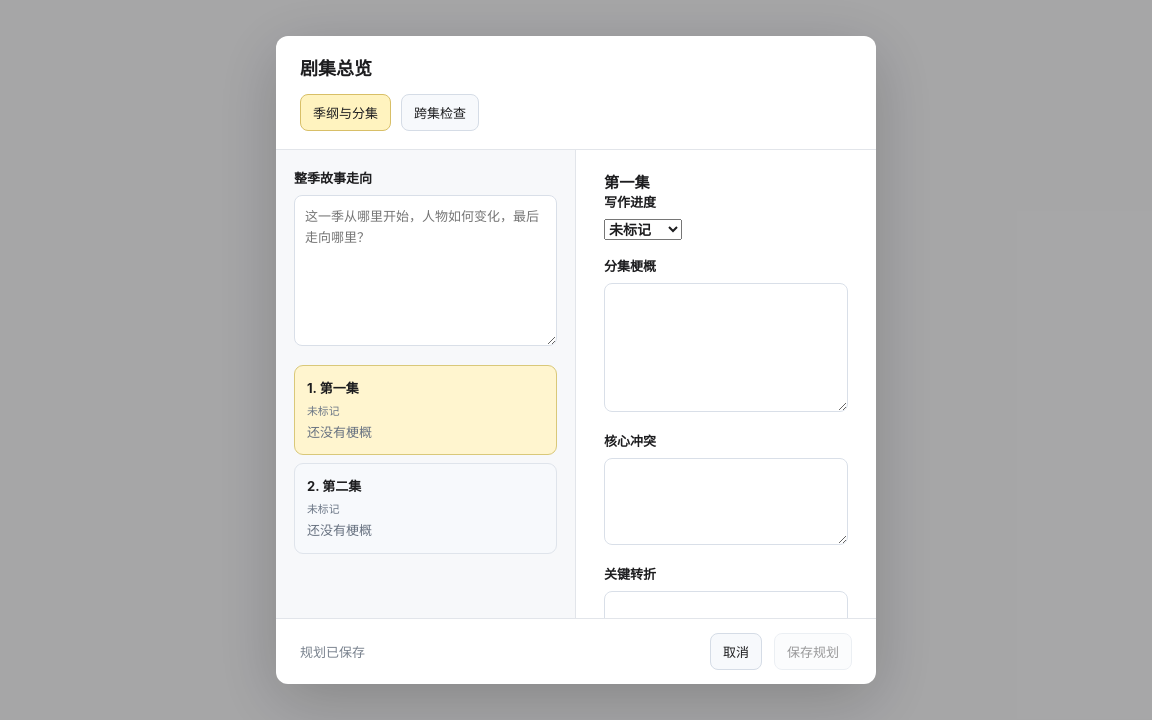
does not start a check while planning is unsaved
Type "尚未保存" into the text box labelled "整季故事走向".
click(426, 270); type("尚未保存")  # box [294,195,557,346]
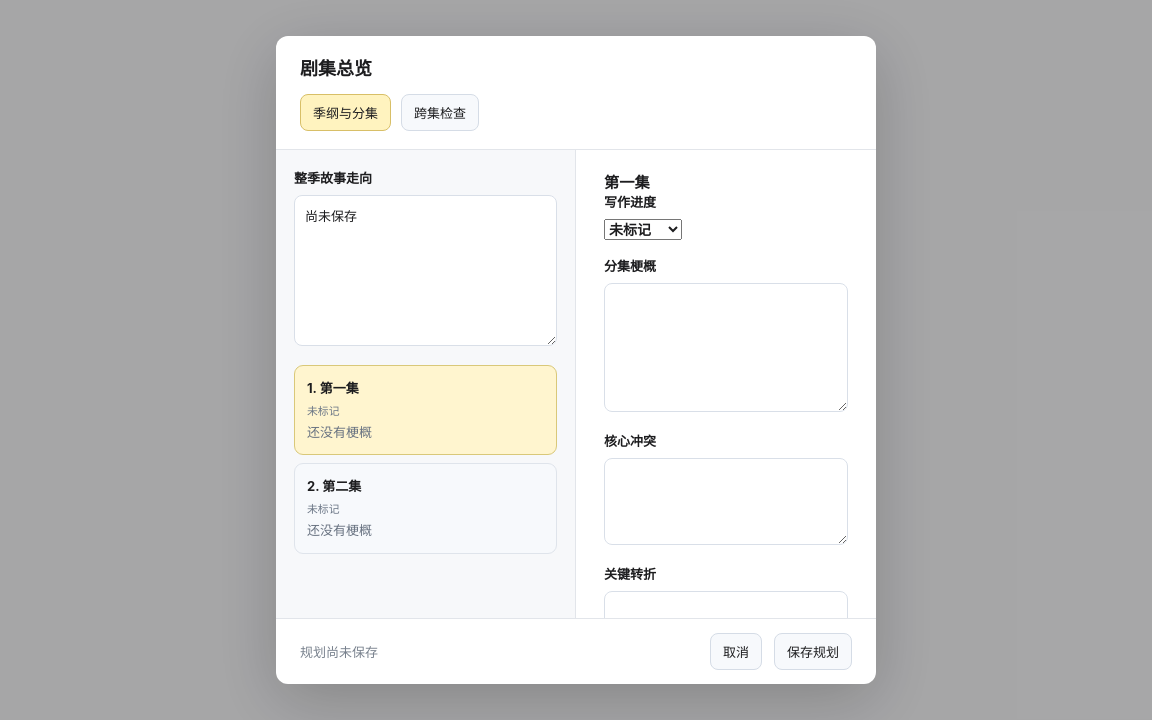
Click the button "跨集检查".
click(440, 112)  # box [401,94,479,131]
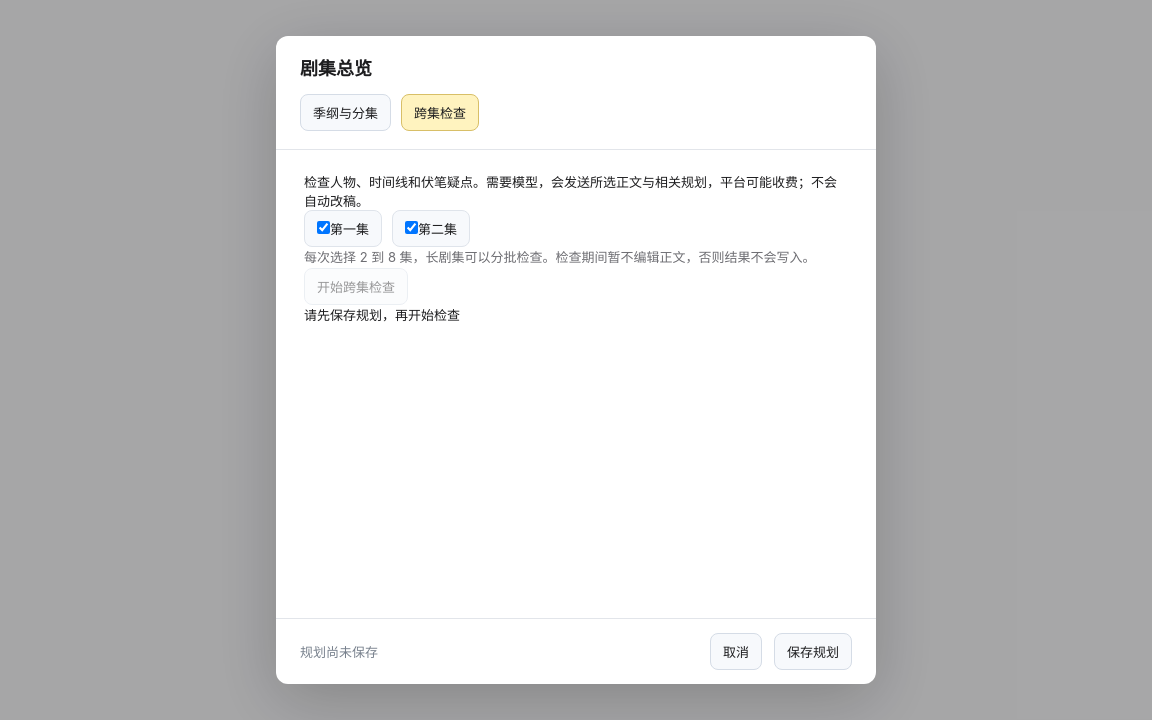
Check: the button "开始跨集检查" is disabled, box [304,268,408,305]
